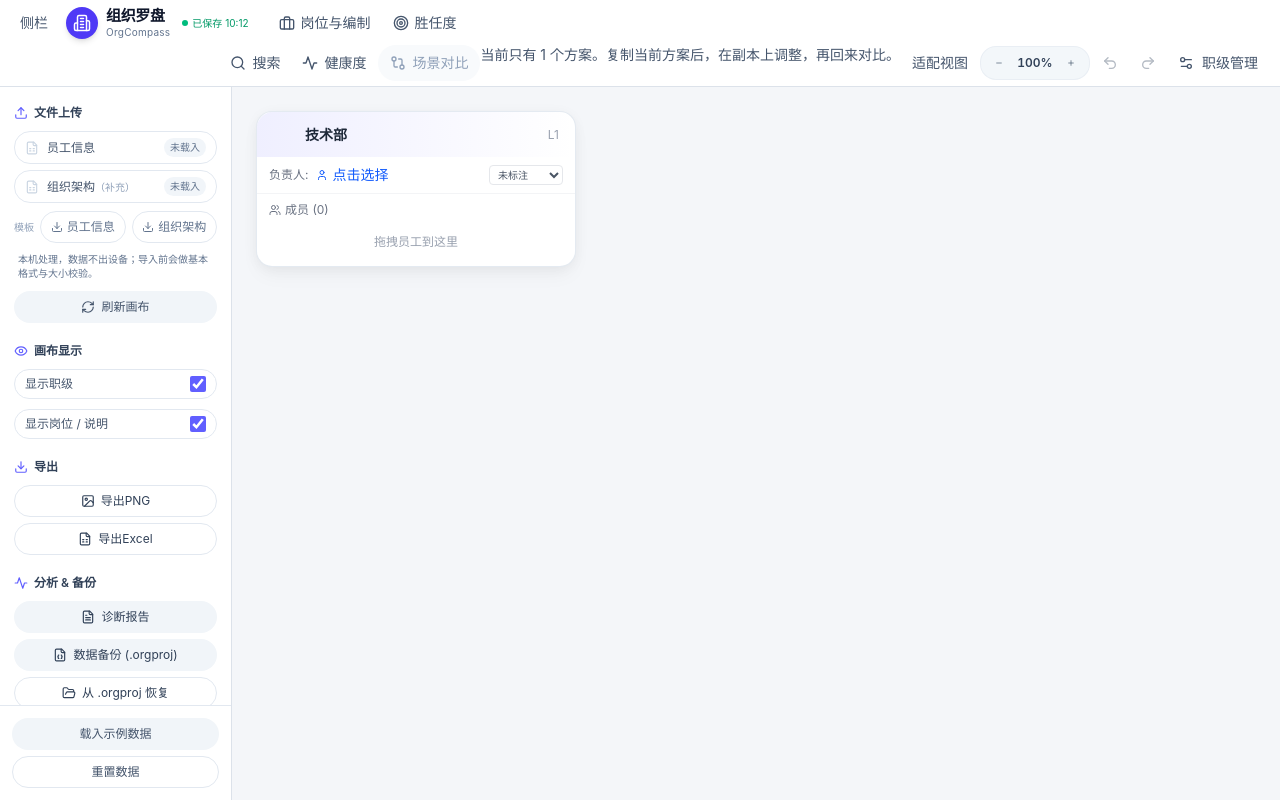
it: V2.4.0「载入示例数据」= 模板选择器（原「行业模板」并入此处） › 点击后打开模板选择器，5 个行业模板全部可选（不再是"直接导入一份示例"）
The width and height of the screenshot is (1280, 800).
Click the button "载入示例数据".
click(116, 734)  # box [12,718,219,750]
(page scrolled)
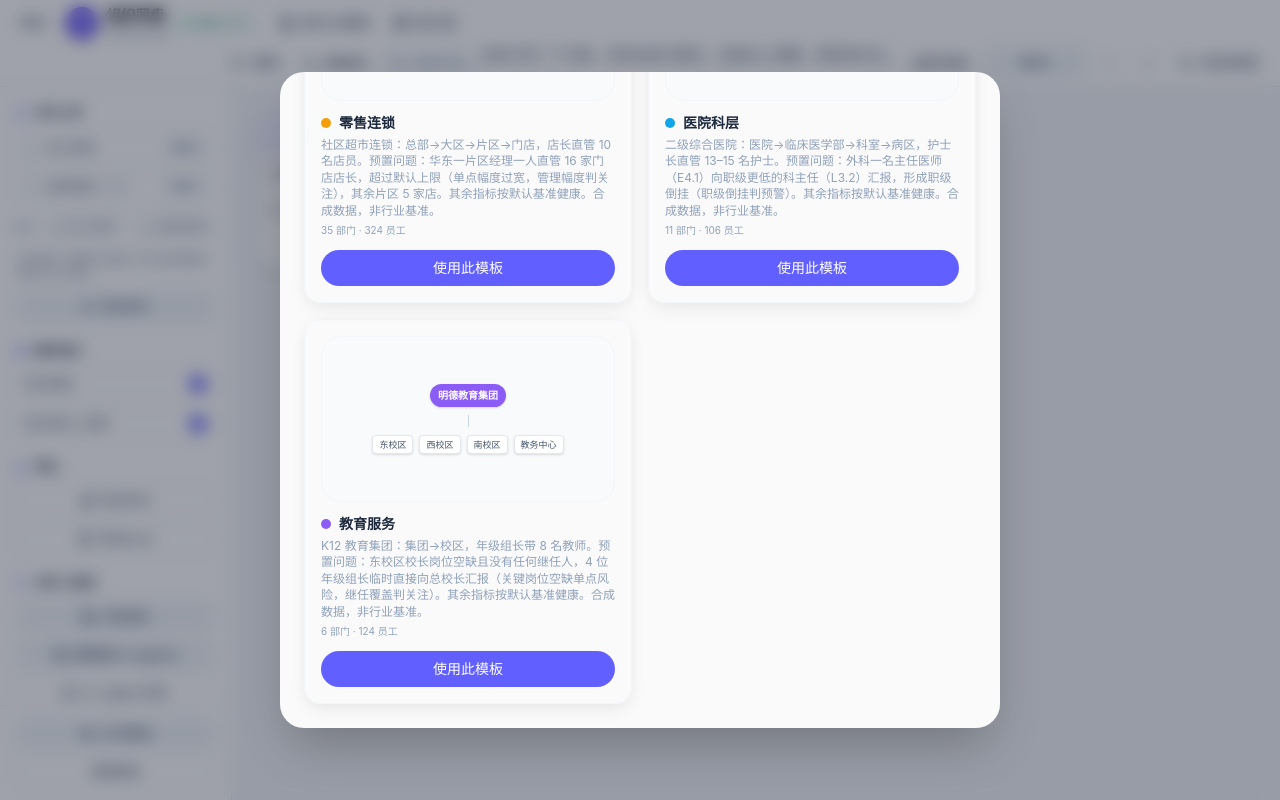
Check: the number of buttons "使用此模板" is 5
Check: the text "零售连锁" is shown, box [339,113,395,133]
Check: the text "医院科层" is shown, box [683,113,739,133]
